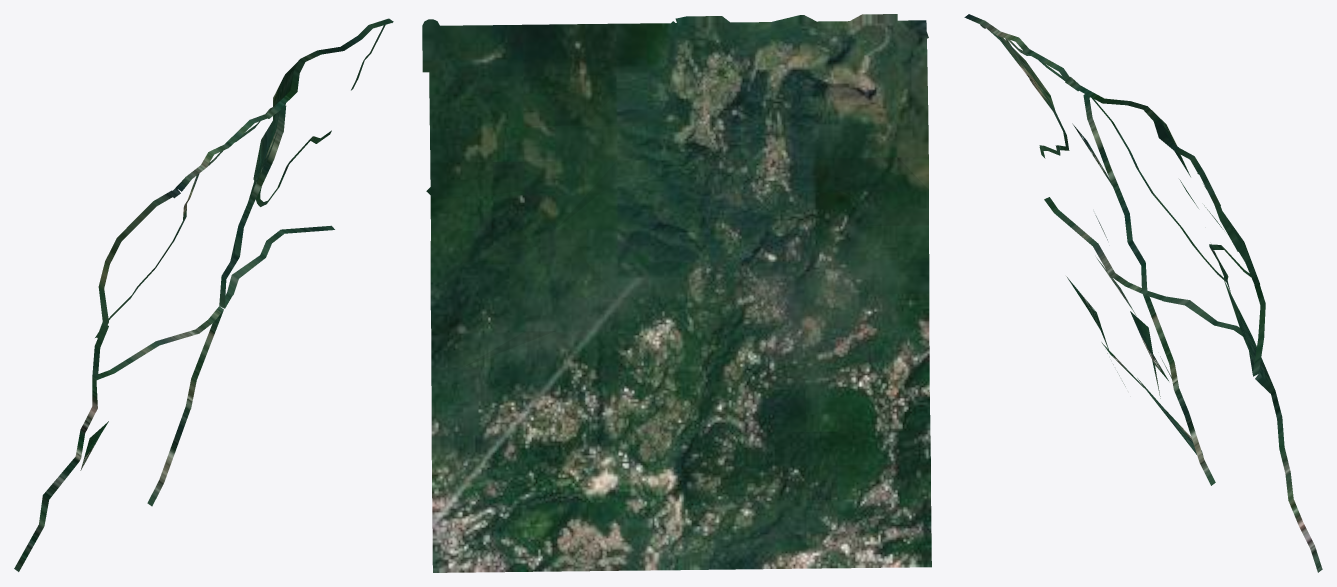
The picture shows the model from 3 angles, left to right: view 1: azimuth 30°, elevation 25°; view 2: azimuth 150°, elevation 25°; view 3: azimuth 270°, elevation 25°; orthographic projection. The views are drawn at different scales.
Size of the model in its own units: 4769 by 4860 by 3584.
1 material, 1 textured.
